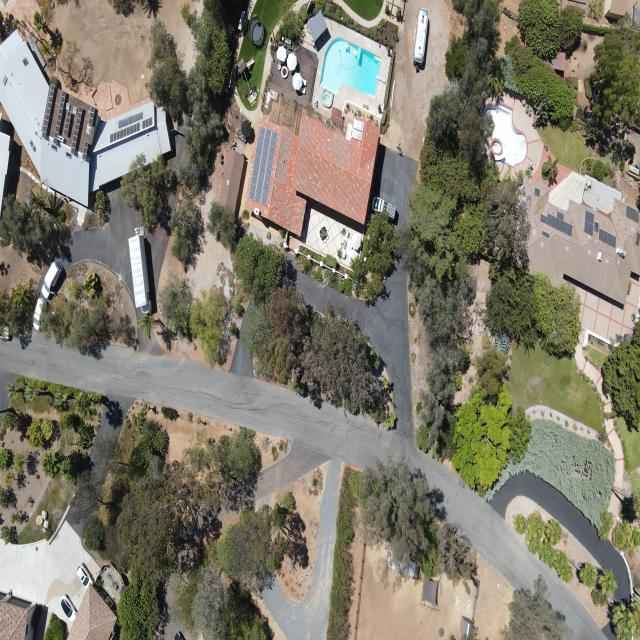solar-panels: (247, 126, 279, 205), (538, 205, 579, 237), (107, 122, 143, 144), (41, 84, 55, 139), (53, 90, 66, 145), (70, 106, 83, 154), (595, 229, 620, 248), (622, 205, 640, 222), (584, 210, 594, 236), (63, 111, 72, 136), (139, 117, 155, 129), (88, 106, 96, 125), (82, 141, 89, 160)
